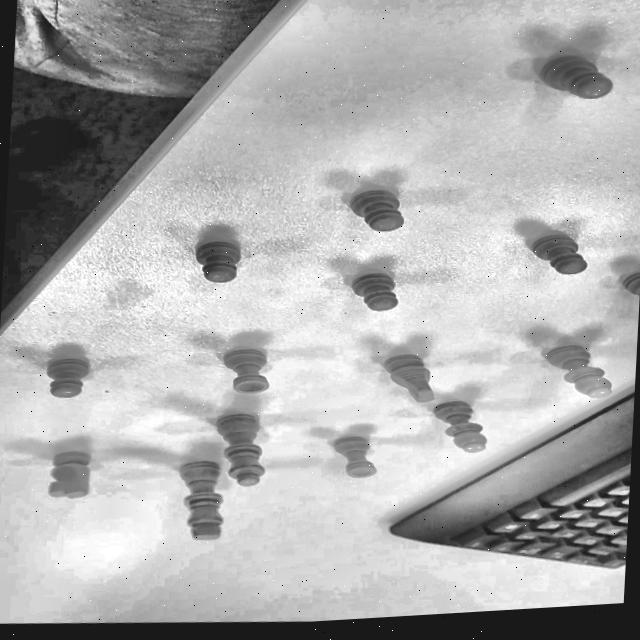white-bishop: (540, 340, 616, 401), (429, 398, 488, 456)
white-king: (176, 459, 226, 542)
white-knight: (381, 350, 436, 404), (46, 449, 90, 501)
white-pawn: (343, 178, 420, 240), (538, 50, 614, 104), (530, 231, 590, 278), (192, 238, 242, 285), (348, 271, 399, 315), (42, 355, 88, 399)
white-queen: (213, 412, 264, 487)
white-rook: (220, 346, 270, 396), (331, 432, 376, 479)
